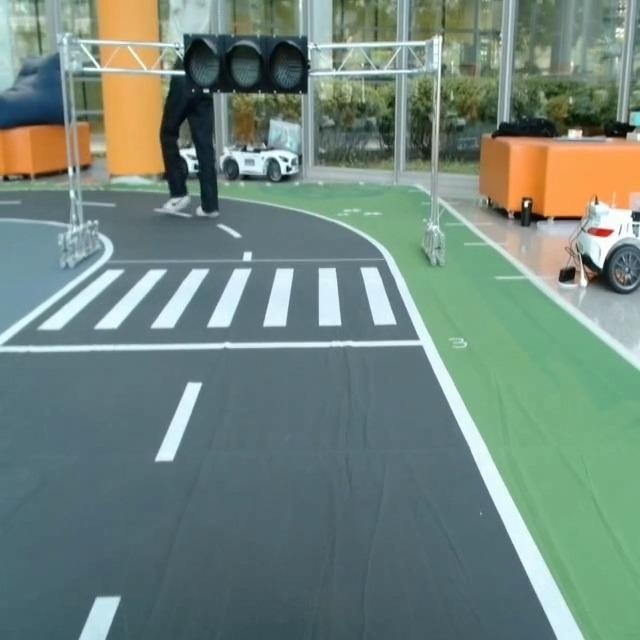traffic-light: (180, 31, 311, 94)
